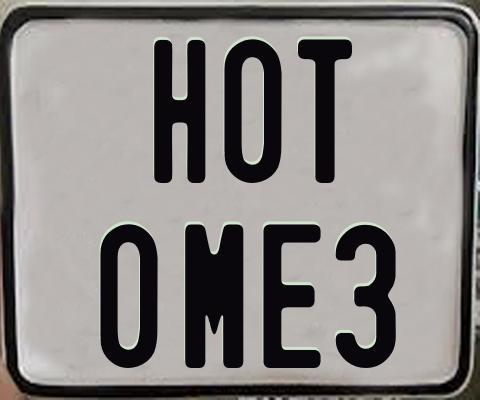0: (221, 38, 284, 186), (99, 224, 161, 374)
3: (333, 225, 396, 368)
E: (262, 224, 321, 370)
H: (151, 39, 204, 186)
M: (185, 223, 247, 368)
T: (296, 38, 356, 184)
